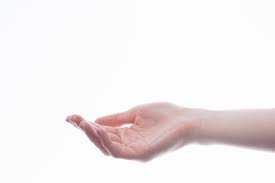hand: (54, 98, 198, 167)
